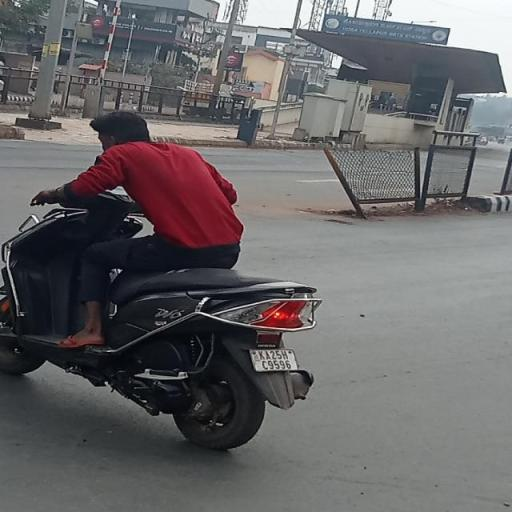bike: (0, 108, 333, 455)
numberplate: (252, 346, 298, 372)
withouthelmet: (94, 112, 146, 150)
